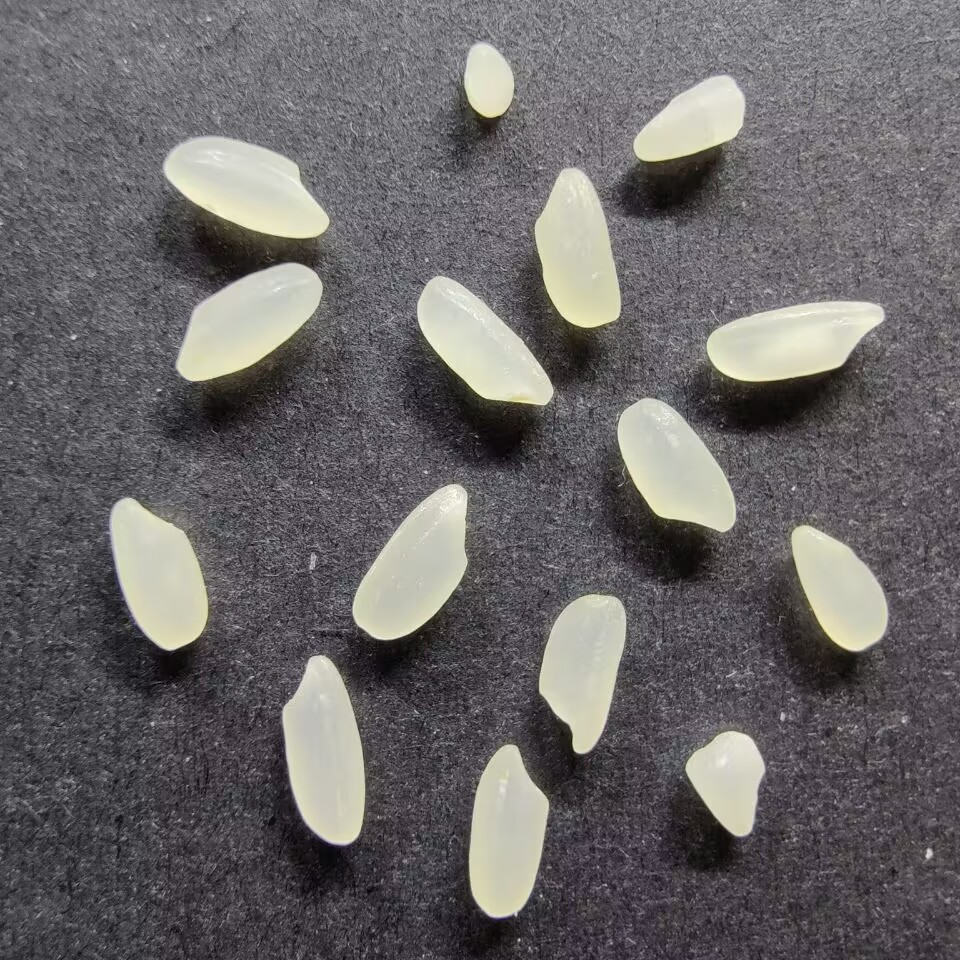broken: (630, 74, 747, 163), (683, 727, 768, 839), (462, 41, 517, 120)
rice: (349, 480, 470, 642), (414, 274, 555, 408), (173, 261, 322, 384), (162, 135, 332, 240), (615, 396, 738, 536), (278, 652, 366, 846), (108, 494, 210, 652), (705, 299, 887, 383), (535, 592, 628, 754), (465, 743, 549, 919), (531, 166, 622, 328), (790, 523, 893, 653)
